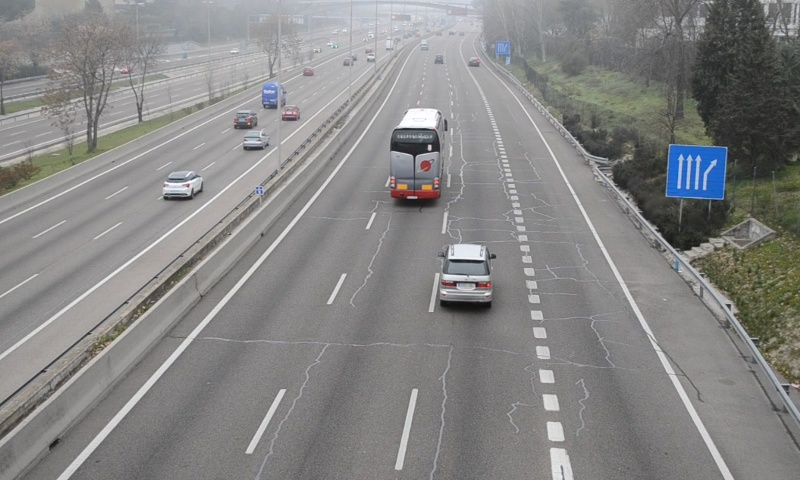bus: (389, 108, 444, 203)
car: (436, 244, 494, 304)
